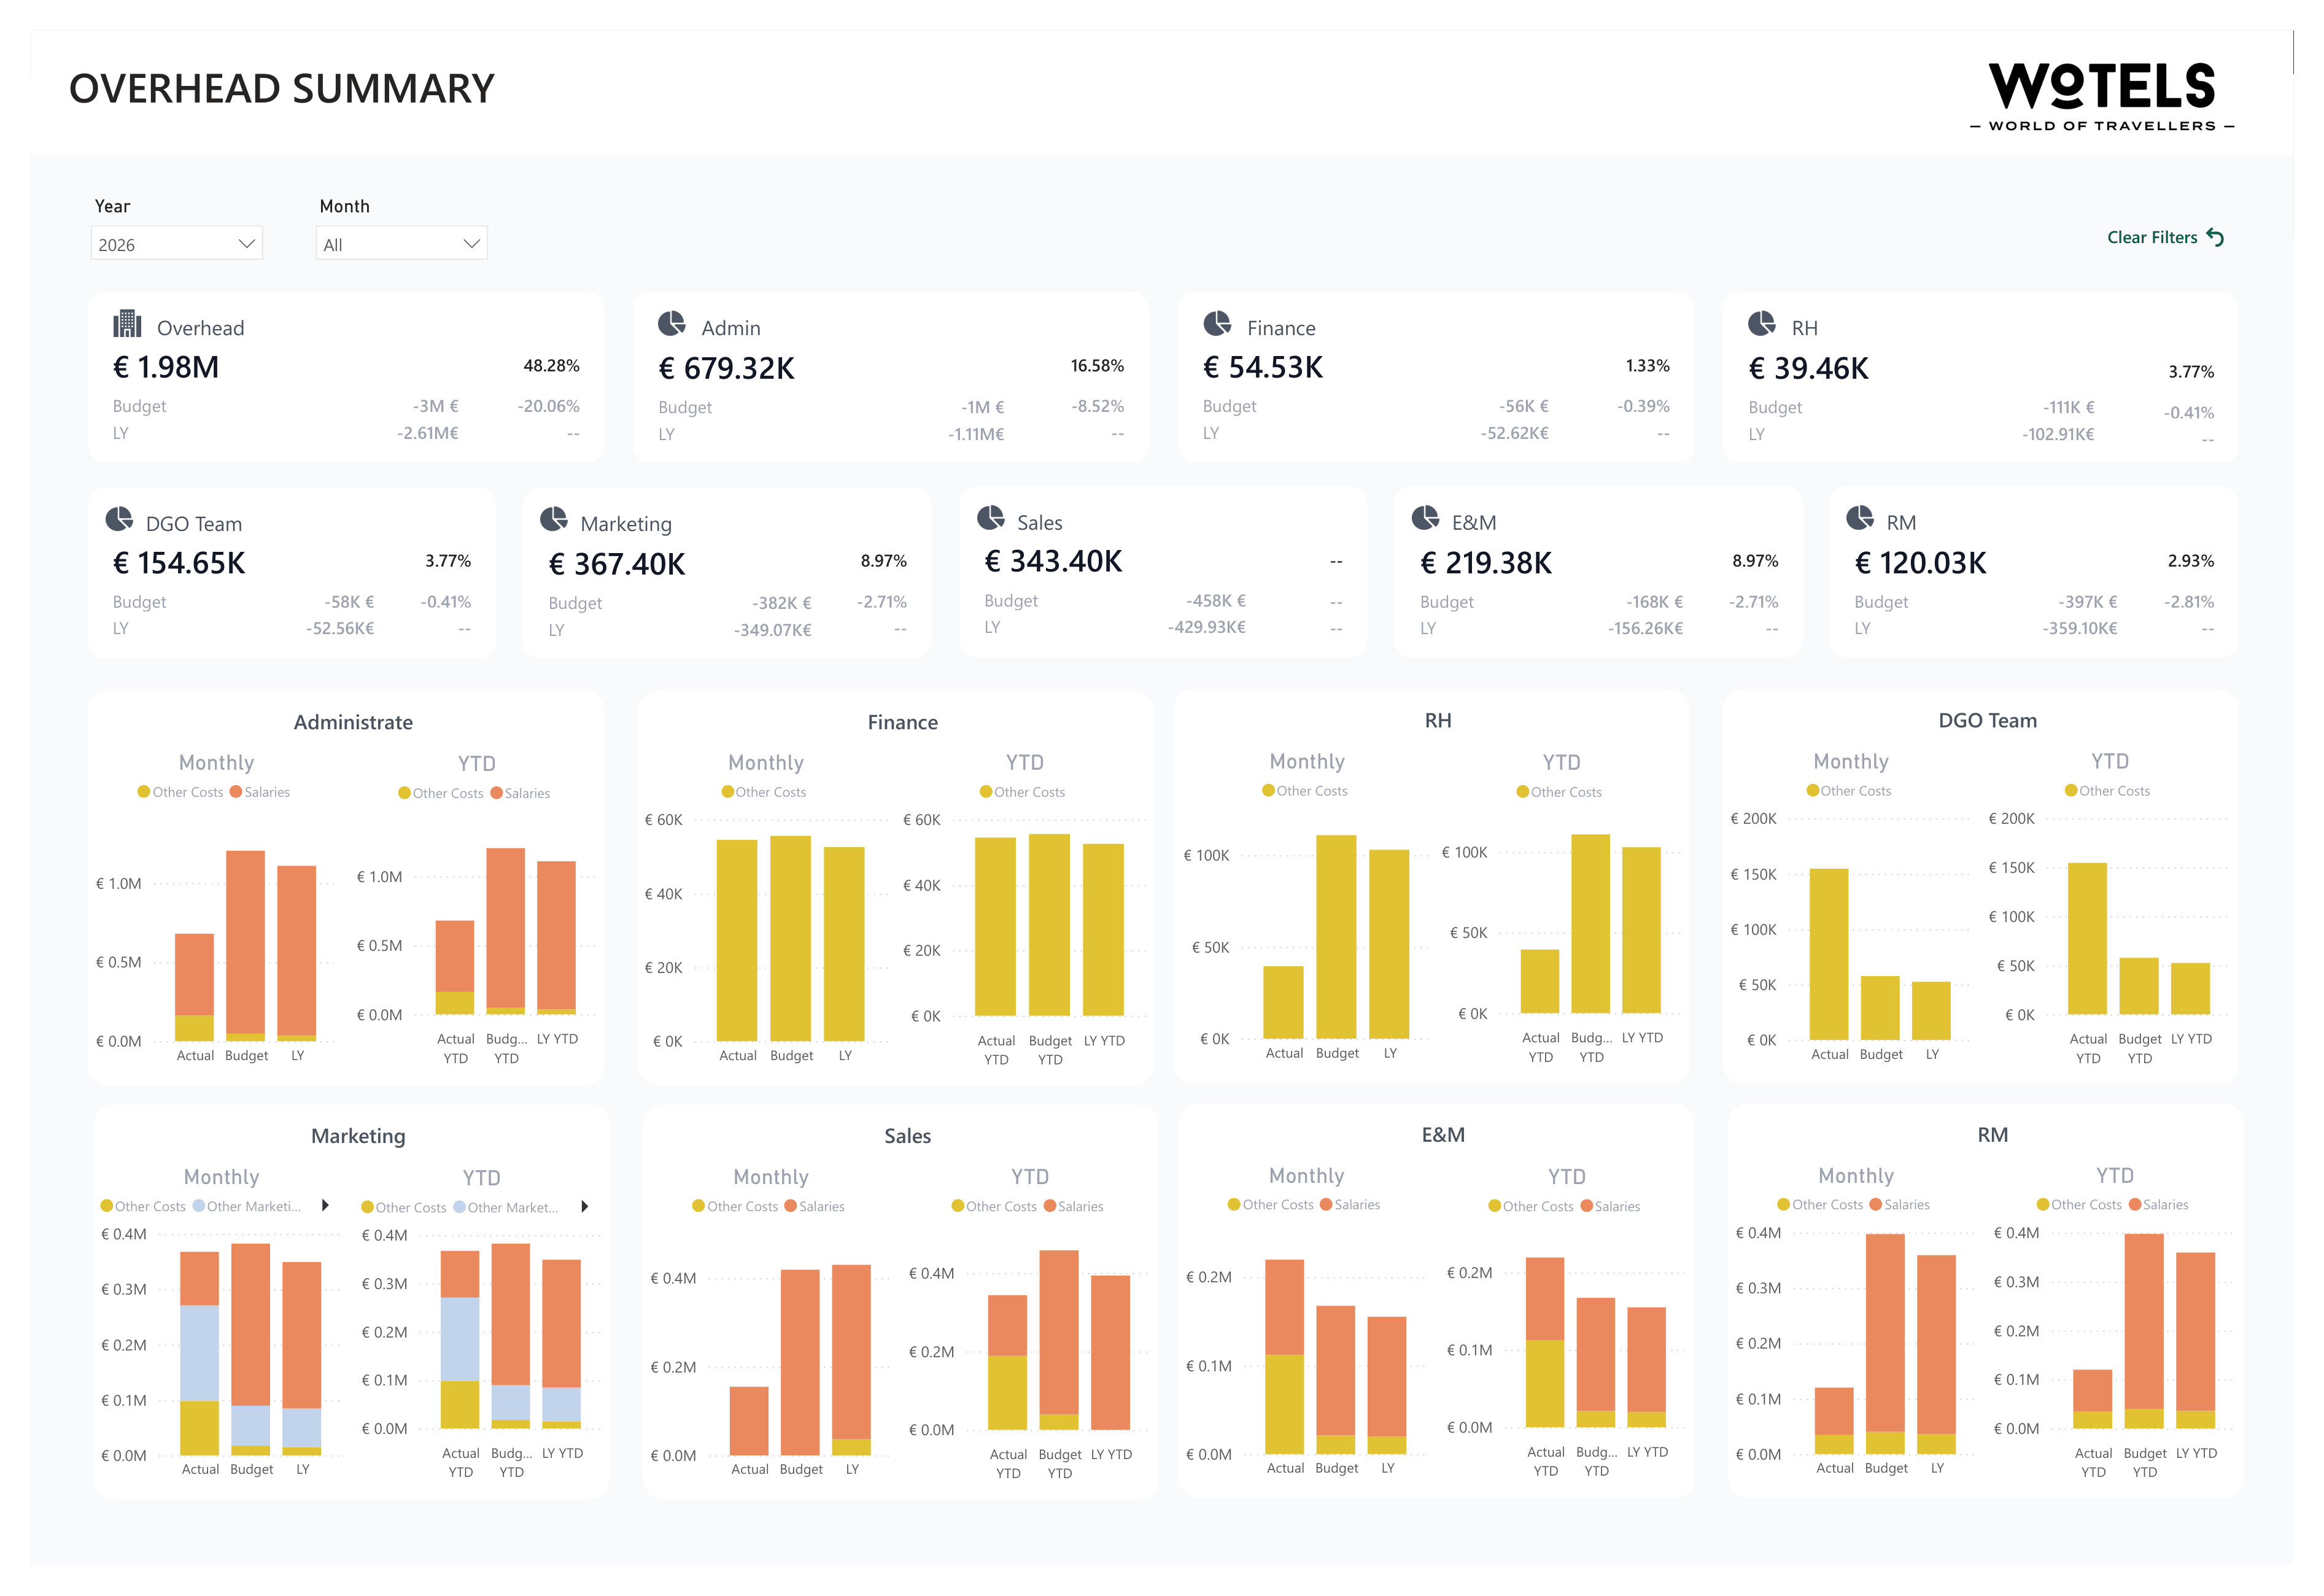

This screenshot's page, from the dashboard's own definition file:
{"tool":"powerbi","page":{"name":"Overhead Dashboard","canvas":[1770,1200],"ordinal":6},"visuals":[{"type":"group","id":"g1","title":"Background Shapes","box":[0,0,1920.4,96.6],"z":0},{"type":"shape","box":[0,0,1920.4,96.6],"z":0,"group":"g1"},{"type":"shape","box":[45.4,203.6,403.8,133.6],"z":0,"group":"g2"},{"type":"shape","box":[471.2,203.6,403.8,133.6],"z":0,"group":"g3"},{"type":"shape","box":[898,203.6,403.8,133.6],"z":0,"group":"g4"},{"type":"shape","box":[1323.7,203.6,403.8,133.6],"z":0,"group":"g5"},{"type":"shape","box":[726.7,356.4,319.2,133.6],"z":0,"group":"g8"},{"type":"shape","box":[1066.7,356.4,320,133.6],"z":0,"group":"g9"},{"type":"shape","box":[1407.5,356.4,320.1,133.6],"z":0,"group":"g10"},{"type":"shape","box":[45.2,357.1,319.2,133.6],"z":0,"group":"g6"},{"type":"shape","box":[385.2,357.1,320,133.6],"z":0,"group":"g7"},{"type":"shape","title":"ROOMS","box":[893.6,515.5,404.5,309.1],"z":0,"group":"g13"},{"type":"shape","title":"ROOMS","box":[1323.6,515.5,404.5,309.1],"z":0,"group":"g14"},{"type":"shape","title":"ROOMS","box":[44.5,516.4,404.5,309.1],"z":0,"group":"g11"},{"type":"shape","title":"ROOMS","box":[474.5,516.4,404.5,309.1],"z":0,"group":"g12"},{"type":"shape","title":"ROOMS","box":[897.2,839.1,404.5,309.1],"z":0,"group":"g17"},{"type":"shape","title":"ROOMS","box":[1327.2,839.1,404.5,309.1],"z":0,"group":"g18"},{"type":"shape","title":"ROOMS","box":[48.1,840,404.5,309.1],"z":0,"group":"g15"},{"type":"shape","title":"ROOMS","box":[478.1,840,404.5,309.1],"z":0,"group":"g16"},{"type":"image","box":[1514.3,0,212.9,97.1],"z":1000},{"type":"textbox","box":[24.7,16.1,429.1,62.6],"z":1000,"group":"g1"},{"type":"textbox","title":"Overhead","box":[89.8,207.6,359.4,36.9],"z":1000,"group":"g2"},{"type":"textbox","title":"Admin","box":[515.6,207.6,359.4,36.9],"z":1000,"group":"g3"},{"type":"textbox","title":"Finance","box":[942.4,207.6,359.4,36.9],"z":1000,"group":"g4"},{"type":"textbox","title":"RH","box":[1368.1,207.6,359.4,36.9],"z":1000,"group":"g5"},{"type":"textbox","title":"Sales","box":[761.8,360.4,284.1,36.9],"z":1000,"group":"g8"},{"type":"textbox","title":"E&M","box":[1101.9,360.4,284.8,36.9],"z":1000,"group":"g9"},{"type":"textbox","title":"RM","box":[1442.7,360.4,284.9,36.9],"z":1000,"group":"g10"},{"type":"textbox","title":"DGO Team","box":[80.3,361.1,284.1,36.9],"z":1000,"group":"g6"},{"type":"textbox","title":"Marketing","box":[420.4,361.1,284.8,36.9],"z":1000,"group":"g7"},{"type":"columnChart","title":"Monthly","fields":{"Category":["Metric_Table.Metric"],"Series":["KPI_Table_OD.Subcategory"],"Y":["KPI_Table_OD.Chart Value OD"]},"box":[895.6,561.7,206.7,255.6],"z":1000,"group":"g13"},{"type":"columnChart","title":"Monthly","fields":{"Category":["Metric_Table.Metric"],"Series":["KPI_Table_OD.Subcategory"],"Y":["KPI_Table_OD.Chart Value OD"]},"box":[1323.6,561.9,200.9,256.4],"z":1000,"group":"g14"},{"type":"columnChart","title":"Monthly","fields":{"Category":["Metric_Table.Metric"],"Series":["KPI_Table_OD.Subcategory"],"Y":["KPI_Table_OD.Chart Value OD"]},"box":[44.5,562.8,200.9,256.4],"z":1000,"group":"g11"},{"type":"columnChart","title":"Monthly","fields":{"Category":["Metric_Table.Metric"],"Series":["KPI_Table_OD.Subcategory"],"Y":["KPI_Table_OD.Chart Value OD"]},"box":[474.5,562.8,200.9,256.4],"z":1000,"group":"g12"},{"type":"columnChart","title":"Monthly","fields":{"Category":["Metric_Table.Metric"],"Series":["KPI_Table_OD.Subcategory"],"Y":["KPI_Table_OD.Chart Value OD"]},"box":[897.2,885.5,200.9,256.4],"z":1000,"group":"g17"},{"type":"columnChart","title":"Monthly","fields":{"Category":["Metric_Table.Metric"],"Series":["KPI_Table_OD.Subcategory"],"Y":["KPI_Table_OD.Chart Value OD"]},"box":[1327.2,885.5,200.9,256.4],"z":1000,"group":"g18"},{"type":"columnChart","title":"Monthly","fields":{"Category":["Metric_Table.Metric"],"Series":["KPI_Table_OD.Subcategory"],"Y":["KPI_Table_OD.Chart Value OD"]},"box":[48.1,886.4,200.9,256.4],"z":1000,"group":"g15"},{"type":"columnChart","title":"Monthly","fields":{"Category":["Metric_Table.Metric"],"Series":["KPI_Table_OD.Subcategory"],"Y":["KPI_Table_OD.Chart Value OD"]},"box":[478.1,886.4,200.9,256.4],"z":1000,"group":"g16"},{"type":"slicer","fields":{"Values":["DateTable.Year"]},"box":[41.7,124.3,150,72.4],"z":2000},{"type":"cardVisual","fields":{"Data":["KPI_Finance.Actual P&L"]},"box":[44.4,230.6,315,106.4],"z":2000,"group":"g2"},{"type":"cardVisual","fields":{"Data":["KPI_Finance.Actual P&L"]},"box":[897,230.6,315,106.4],"z":2000,"group":"g4"},{"type":"cardVisual","fields":{"Data":["KPI_Finance.Actual P&L"]},"box":[471.2,231.5,315,105.7],"z":2000,"group":"g3"},{"type":"cardVisual","fields":{"Data":["KPI_Finance.Actual P&L"]},"box":[1323.7,231.5,315,105.7],"z":2000,"group":"g5"},{"type":"cardVisual","fields":{"Data":["KPI_Finance.Actual P&L"]},"box":[725.9,383.4,249,106.4],"z":2000,"group":"g8"},{"type":"cardVisual","fields":{"Data":["KPI_Finance.Actual P&L"]},"box":[44.4,384.1,249,106.4],"z":2000,"group":"g6"},{"type":"cardVisual","fields":{"Data":["KPI_Finance.Actual P&L"]},"box":[1066.7,384.3,249.7,105.7],"z":2000,"group":"g9"},{"type":"cardVisual","fields":{"Data":["KPI_Finance.Actual P&L"]},"box":[1407.5,384.3,249.7,105.7],"z":2000,"group":"g10"},{"type":"cardVisual","fields":{"Data":["KPI_Finance.Actual P&L"]},"box":[385.2,385,249.7,105.7],"z":2000,"group":"g7"},{"type":"textbox","title":"RH","box":[890,515.5,408.2,37.3],"z":2000,"group":"g13"},{"type":"textbox","title":"DGO Team","box":[1320,515.5,408.2,37.3],"z":2000,"group":"g14"},{"type":"textbox","title":"Administrate","box":[40.9,516.4,408.2,37.3],"z":2000,"group":"g11"},{"type":"textbox","title":"Finance","box":[470.9,516.4,408.2,37.3],"z":2000,"group":"g12"},{"type":"textbox","title":"E&M","box":[893.6,839.1,408.2,37.3],"z":2000,"group":"g17"},{"type":"textbox","title":"RM","box":[1323.6,839.1,408.2,37.3],"z":2000,"group":"g18"},{"type":"textbox","title":"Marketing","box":[44.5,840,408.2,37.3],"z":2000,"group":"g15"},{"type":"textbox","title":"Sales","box":[474.5,840,408.2,37.3],"z":2000,"group":"g16"},{"type":"slicer","fields":{"Values":["DateTable.Month Name"]},"box":[218.3,124.3,150,72.4],"z":3000},{"type":"image","box":[55.7,217.6,40.4,20.9],"z":3000,"group":"g2"},{"type":"image","box":[481.6,217.6,40.4,20.9],"z":3000,"group":"g3"},{"type":"image","box":[908.3,217.6,40.4,20.9],"z":3000,"group":"g4"},{"type":"image","box":[1334.1,217.6,40.4,20.9],"z":3000,"group":"g5"},{"type":"image","box":[734.9,370.4,31.9,20.9],"z":3000,"group":"g8"},{"type":"image","box":[1074.9,370.4,32,20.9],"z":3000,"group":"g9"},{"type":"image","box":[1415.7,370.4,32,20.9],"z":3000,"group":"g10"},{"type":"image","box":[53.4,371.1,31.9,20.9],"z":3000,"group":"g6"},{"type":"image","box":[393.4,371.1,32,20.9],"z":3000,"group":"g7"},{"type":"columnChart","title":"YTD","fields":{"Category":["Metric_Table.Metric"],"Series":["KPI_Table_OD.Subcategory"],"Y":["KPI_Table_OD.Chart Value OD"]},"box":[1526.4,561.9,201.8,256.4],"z":3000,"group":"g14"},{"type":"columnChart","title":"YTD","fields":{"Category":["Metric_Table.Metric"],"Series":["KPI_Table_OD.Subcategory"],"Y":["KPI_Table_OD.Chart Value OD"]},"box":[1098.3,562.4,200,255.5],"z":3000,"group":"g13"},{"type":"columnChart","title":"YTD","fields":{"Category":["Metric_Table.Metric"],"Series":["KPI_Table_OD.Subcategory"],"Y":["KPI_Table_OD.Chart Value OD"]},"box":[677.3,562.8,201.8,256.4],"z":3000,"group":"g12"},{"type":"columnChart","title":"YTD","fields":{"Category":["Metric_Table.Metric"],"Series":["KPI_Table_OD.Subcategory"],"Y":["KPI_Table_OD.Chart Value OD"]},"box":[249.2,563.3,200,255.5],"z":3000,"group":"g11"},{"type":"columnChart","title":"YTD","fields":{"Category":["Metric_Table.Metric"],"Series":["KPI_Table_OD.Subcategory"],"Y":["KPI_Table_OD.Chart Value OD"]},"box":[1530,885.5,201.8,256.4],"z":3000,"group":"g18"},{"type":"columnChart","title":"YTD","fields":{"Category":["Metric_Table.Metric"],"Series":["KPI_Table_OD.Subcategory"],"Y":["KPI_Table_OD.Chart Value OD"]},"box":[1101.9,886,200,255.5],"z":3000,"group":"g17"},{"type":"columnChart","title":"YTD","fields":{"Category":["Metric_Table.Metric"],"Series":["KPI_Table_OD.Subcategory"],"Y":["KPI_Table_OD.Chart Value OD"]},"box":[680.9,886.4,201.8,256.4],"z":3000,"group":"g16"},{"type":"columnChart","title":"YTD","fields":{"Category":["Metric_Table.Metric"],"Series":["KPI_Table_OD.Subcategory"],"Y":["KPI_Table_OD.Chart Value OD"]},"box":[252.8,886.9,200,255.5],"z":3000,"group":"g15"},{"type":"actionButton","box":[1621.4,145.7,105.7,27.1],"z":4000},{"type":"group","id":"g2","title":"Revenue KPI","box":[44.4,203.6,404.7,133.6],"z":5000},{"type":"group","id":"g3","title":"Revenue KPI","box":[471.2,203.6,403.8,133.6],"z":6000},{"type":"group","id":"g4","title":"Revenue KPI","box":[897,203.6,404.7,133.6],"z":7000},{"type":"group","id":"g5","title":"Revenue KPI","box":[1323.7,203.6,403.8,133.6],"z":8000},{"type":"group","id":"g6","title":"Revenue KPI","box":[44.4,357.1,320,133.6],"z":9000},{"type":"group","id":"g7","title":"Revenue KPI","box":[385.2,357.1,320,133.6],"z":10000},{"type":"group","id":"g8","title":"Revenue KPI","box":[725.9,356.4,320,133.6],"z":11000},{"type":"group","id":"g9","title":"Revenue KPI","box":[1066.7,356.4,320,133.6],"z":12000},{"type":"group","id":"g10","title":"Revenue KPI","box":[1407.5,356.4,320,133.6],"z":13000},{"type":"group","id":"g11","title":"Group 1","box":[40.9,516.4,408.3,309.1],"z":14000},{"type":"group","id":"g12","title":"Group 1","box":[470.9,516.4,408.2,309.1],"z":15000},{"type":"group","id":"g13","title":"Group 1","box":[890,515.5,408.3,309.1],"z":16000},{"type":"group","id":"g14","title":"Group 1","box":[1320,515.5,408.2,309.1],"z":17000},{"type":"group","id":"g15","title":"Group 1","box":[44.5,840,408.3,309.1],"z":18000},{"type":"group","id":"g16","title":"Group 1","box":[474.5,840,408.2,309.1],"z":19000},{"type":"group","id":"g17","title":"Group 1","box":[893.6,839.1,408.3,309.1],"z":20000},{"type":"group","id":"g18","title":"Group 1","box":[1323.6,839.1,408.2,309.1],"z":21000},{"type":"cardVisual","fields":{"Data":["KPI_OD.Actual Rev %","KPI_OD.Buudget Rev %","KPI_OD.LY Rev %"]},"box":[343.9,238.7,105.2,93.9],"z":22000},{"type":"cardVisual","fields":{"Data":["KPI_OD.Actual Rev %","KPI_OD.Buudget Rev %","KPI_OD.LY Rev %"]},"box":[769.7,238.7,105.2,93.9],"z":23000},{"type":"cardVisual","fields":{"Data":["KPI_OD.Actual Rev %","KPI_OD.Buudget Rev %","KPI_OD.LY Rev %"]},"box":[1197.3,239.1,104.5,93.6],"z":24000},{"type":"cardVisual","fields":{"Data":["KPI_OD.Actual Rev %","KPI_OD.Buudget Rev %","KPI_OD.LY Rev %"]},"box":[1623.6,243.6,104.5,93.6],"z":25000},{"type":"cardVisual","fields":{"Data":["KPI_OD.Actual Rev %","KPI_OD.Buudget Rev %","KPI_OD.LY Rev %"]},"box":[260,391.9,104.4,93.8],"z":26000},{"type":"cardVisual","fields":{"Data":["KPI_OD.Actual Rev %","KPI_OD.Buudget Rev %","KPI_OD.LY Rev %"]},"box":[601,391.9,104.4,93.8],"z":27000},{"type":"cardVisual","fields":{"Data":["KPI_OD.Actual Rev %","KPI_OD.Buudget Rev %","KPI_OD.LY Rev %"]},"box":[941.9,391.9,104.4,93.8],"z":28000},{"type":"cardVisual","fields":{"Data":["KPI_OD.Actual Rev %","KPI_OD.Buudget Rev %","KPI_OD.LY Rev %"]},"box":[1282.9,391.9,104.4,93.8],"z":29000},{"type":"cardVisual","fields":{"Data":["KPI_OD.Actual Rev %","KPI_OD.Buudget Rev %","KPI_OD.LY Rev %"]},"box":[1623.8,391.9,104.4,93.8],"z":30000}]}

Visuals, with their boxes on the page's 1770x1200 design canvas (x1, y1, x2, y2). These are canvas units, not pixel positions in the 2324x1596 screenshot, which may show the page scaled, cropped or inside an application window:
"Background Shapes" group: x1=0, y1=0, x2=1920, y2=97
shape: x1=0, y1=0, x2=1920, y2=97
shape: x1=45, y1=204, x2=449, y2=337
shape: x1=471, y1=204, x2=875, y2=337
shape: x1=898, y1=204, x2=1302, y2=337
shape: x1=1324, y1=204, x2=1728, y2=337
shape: x1=727, y1=356, x2=1046, y2=490
shape: x1=1067, y1=356, x2=1387, y2=490
shape: x1=1408, y1=356, x2=1728, y2=490
shape: x1=45, y1=357, x2=364, y2=491
shape: x1=385, y1=357, x2=705, y2=491
"ROOMS" shape: x1=894, y1=516, x2=1298, y2=825
"ROOMS" shape: x1=1324, y1=516, x2=1728, y2=825
"ROOMS" shape: x1=44, y1=516, x2=449, y2=826
"ROOMS" shape: x1=474, y1=516, x2=879, y2=826
"ROOMS" shape: x1=897, y1=839, x2=1302, y2=1148
"ROOMS" shape: x1=1327, y1=839, x2=1732, y2=1148
"ROOMS" shape: x1=48, y1=840, x2=453, y2=1149
"ROOMS" shape: x1=478, y1=840, x2=883, y2=1149
image: x1=1514, y1=0, x2=1727, y2=97
textbox: x1=25, y1=16, x2=454, y2=79
"Overhead" textbox: x1=90, y1=208, x2=449, y2=244
"Admin" textbox: x1=516, y1=208, x2=875, y2=244
"Finance" textbox: x1=942, y1=208, x2=1302, y2=244
"RH" textbox: x1=1368, y1=208, x2=1728, y2=244
"Sales" textbox: x1=762, y1=360, x2=1046, y2=397
"E&M" textbox: x1=1102, y1=360, x2=1387, y2=397
"RM" textbox: x1=1443, y1=360, x2=1728, y2=397
"DGO Team" textbox: x1=80, y1=361, x2=364, y2=398
"Marketing" textbox: x1=420, y1=361, x2=705, y2=398
"Monthly" columnChart: x1=896, y1=562, x2=1102, y2=817
"Monthly" columnChart: x1=1324, y1=562, x2=1524, y2=818
"Monthly" columnChart: x1=44, y1=563, x2=245, y2=819
"Monthly" columnChart: x1=474, y1=563, x2=675, y2=819
"Monthly" columnChart: x1=897, y1=886, x2=1098, y2=1142
"Monthly" columnChart: x1=1327, y1=886, x2=1528, y2=1142
"Monthly" columnChart: x1=48, y1=886, x2=249, y2=1143
"Monthly" columnChart: x1=478, y1=886, x2=679, y2=1143
slicer - DateTable.Year: x1=42, y1=124, x2=192, y2=197
cardVisual - KPI_Finance.Actual P&L: x1=44, y1=231, x2=359, y2=337
cardVisual - KPI_Finance.Actual P&L: x1=897, y1=231, x2=1212, y2=337
cardVisual - KPI_Finance.Actual P&L: x1=471, y1=232, x2=786, y2=337
cardVisual - KPI_Finance.Actual P&L: x1=1324, y1=232, x2=1639, y2=337
cardVisual - KPI_Finance.Actual P&L: x1=726, y1=383, x2=975, y2=490
cardVisual - KPI_Finance.Actual P&L: x1=44, y1=384, x2=293, y2=490
cardVisual - KPI_Finance.Actual P&L: x1=1067, y1=384, x2=1316, y2=490
cardVisual - KPI_Finance.Actual P&L: x1=1408, y1=384, x2=1657, y2=490
cardVisual - KPI_Finance.Actual P&L: x1=385, y1=385, x2=635, y2=491
"RH" textbox: x1=890, y1=516, x2=1298, y2=553
"DGO Team" textbox: x1=1320, y1=516, x2=1728, y2=553
"Administrate" textbox: x1=41, y1=516, x2=449, y2=554
"Finance" textbox: x1=471, y1=516, x2=879, y2=554
"E&M" textbox: x1=894, y1=839, x2=1302, y2=876
"RM" textbox: x1=1324, y1=839, x2=1732, y2=876
"Marketing" textbox: x1=44, y1=840, x2=453, y2=877
"Sales" textbox: x1=474, y1=840, x2=883, y2=877
slicer - DateTable.Month Name: x1=218, y1=124, x2=368, y2=197
image: x1=56, y1=218, x2=96, y2=238
image: x1=482, y1=218, x2=522, y2=238
image: x1=908, y1=218, x2=949, y2=238
image: x1=1334, y1=218, x2=1374, y2=238
image: x1=735, y1=370, x2=767, y2=391
image: x1=1075, y1=370, x2=1107, y2=391
image: x1=1416, y1=370, x2=1448, y2=391
image: x1=53, y1=371, x2=85, y2=392
image: x1=393, y1=371, x2=425, y2=392
"YTD" columnChart: x1=1526, y1=562, x2=1728, y2=818
"YTD" columnChart: x1=1098, y1=562, x2=1298, y2=818
"YTD" columnChart: x1=677, y1=563, x2=879, y2=819
"YTD" columnChart: x1=249, y1=563, x2=449, y2=819
"YTD" columnChart: x1=1530, y1=886, x2=1732, y2=1142
"YTD" columnChart: x1=1102, y1=886, x2=1302, y2=1142
"YTD" columnChart: x1=681, y1=886, x2=883, y2=1143
"YTD" columnChart: x1=253, y1=887, x2=453, y2=1142
actionButton: x1=1621, y1=146, x2=1727, y2=173
"Revenue KPI" group: x1=44, y1=204, x2=449, y2=337
"Revenue KPI" group: x1=471, y1=204, x2=875, y2=337
"Revenue KPI" group: x1=897, y1=204, x2=1302, y2=337
"Revenue KPI" group: x1=1324, y1=204, x2=1728, y2=337
"Revenue KPI" group: x1=44, y1=357, x2=364, y2=491
"Revenue KPI" group: x1=385, y1=357, x2=705, y2=491
"Revenue KPI" group: x1=726, y1=356, x2=1046, y2=490
"Revenue KPI" group: x1=1067, y1=356, x2=1387, y2=490
"Revenue KPI" group: x1=1408, y1=356, x2=1728, y2=490
"Group 1" group: x1=41, y1=516, x2=449, y2=826
"Group 1" group: x1=471, y1=516, x2=879, y2=826
"Group 1" group: x1=890, y1=516, x2=1298, y2=825
"Group 1" group: x1=1320, y1=516, x2=1728, y2=825
"Group 1" group: x1=44, y1=840, x2=453, y2=1149
"Group 1" group: x1=474, y1=840, x2=883, y2=1149
"Group 1" group: x1=894, y1=839, x2=1302, y2=1148
"Group 1" group: x1=1324, y1=839, x2=1732, y2=1148
cardVisual - KPI_OD.Actual Rev % x KPI_OD.Buudget Rev %: x1=344, y1=239, x2=449, y2=333
cardVisual - KPI_OD.Actual Rev % x KPI_OD.Buudget Rev %: x1=770, y1=239, x2=875, y2=333
cardVisual - KPI_OD.Actual Rev % x KPI_OD.Buudget Rev %: x1=1197, y1=239, x2=1302, y2=333
cardVisual - KPI_OD.Actual Rev % x KPI_OD.Buudget Rev %: x1=1624, y1=244, x2=1728, y2=337
cardVisual - KPI_OD.Actual Rev % x KPI_OD.Buudget Rev %: x1=260, y1=392, x2=364, y2=486
cardVisual - KPI_OD.Actual Rev % x KPI_OD.Buudget Rev %: x1=601, y1=392, x2=705, y2=486
cardVisual - KPI_OD.Actual Rev % x KPI_OD.Buudget Rev %: x1=942, y1=392, x2=1046, y2=486
cardVisual - KPI_OD.Actual Rev % x KPI_OD.Buudget Rev %: x1=1283, y1=392, x2=1387, y2=486
cardVisual - KPI_OD.Actual Rev % x KPI_OD.Buudget Rev %: x1=1624, y1=392, x2=1728, y2=486
